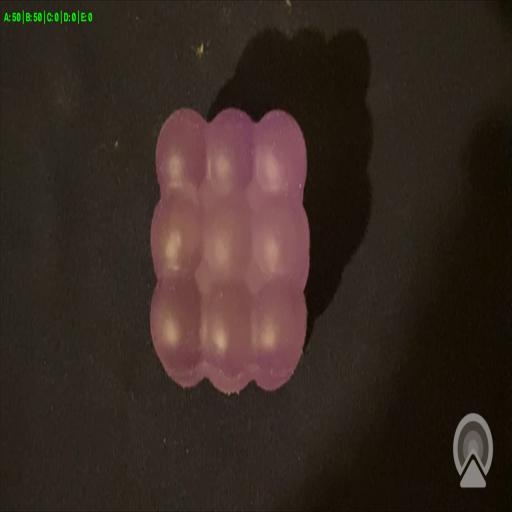squishy: (119, 65, 334, 400)
